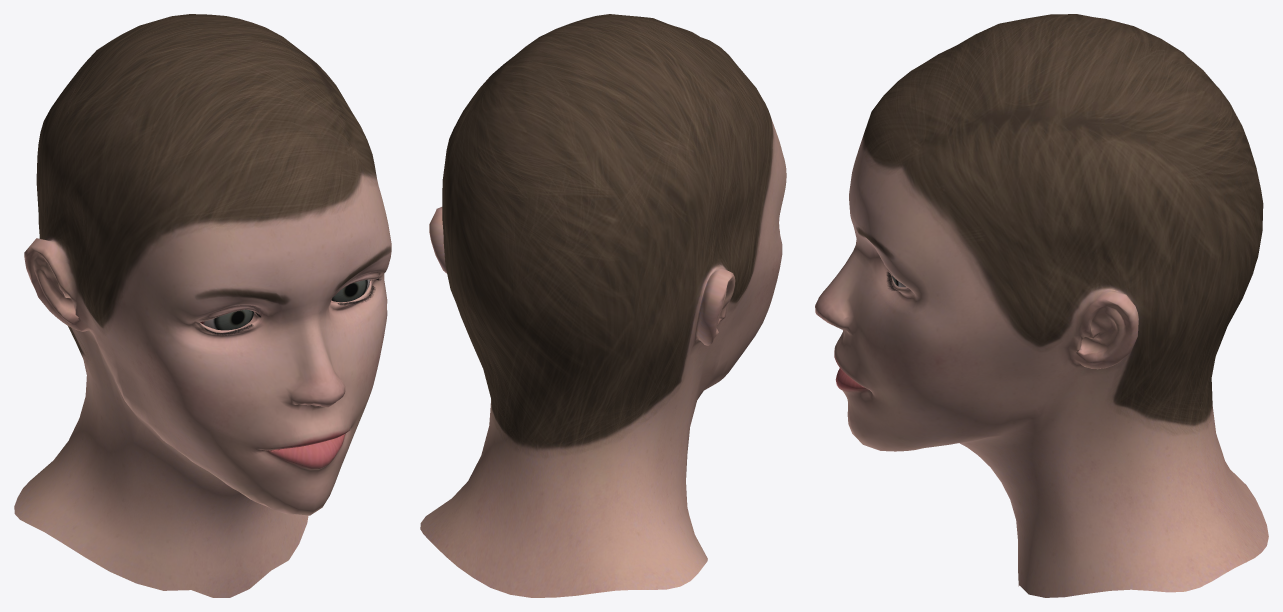
The model's file is human.glb.
3 views of the same model, side by side, from view 1: azimuth 30°, elevation 25°; view 2: azimuth 150°, elevation 25°; view 3: azimuth 270°, elevation 25° (orthographic). The views are drawn at different scales.
Parts seen in each view (by area): view 1: Bust_low, Eyes_low; view 2: Bust_low; view 3: Bust_low.
Boxes of the visible parts, left/top/right/bottom form: Bust_low: left=14, top=14, right=391, bottom=597; Eyes_low: left=200, top=279, right=370, bottom=330; Bust_low: left=420, top=14, right=786, bottom=597; Bust_low: left=815, top=14, right=1268, bottom=597.
Bounding box in the file's own units: 0.0101 × 0.0174 × 0.013.
Materials: 3 (3 with a texture image).
